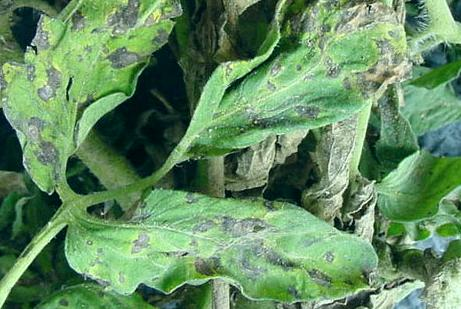Tomato leaf late blight: (0, 0, 224, 200), (179, 0, 401, 163), (60, 189, 387, 299)
